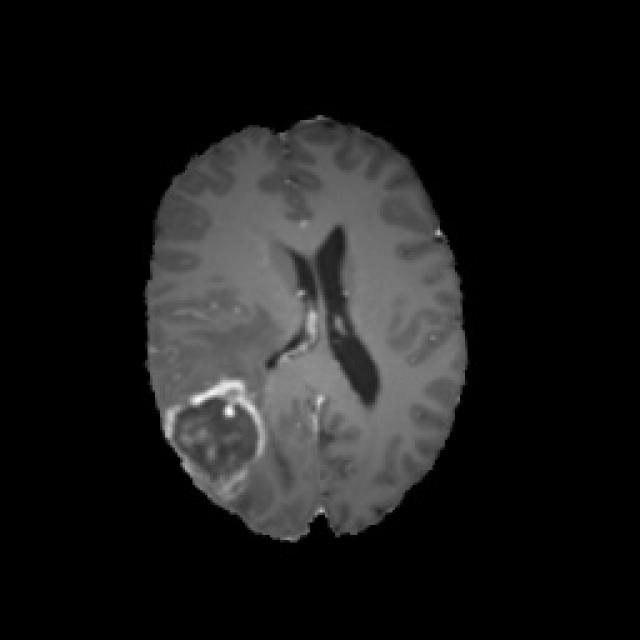negative: (166, 381, 266, 489)
